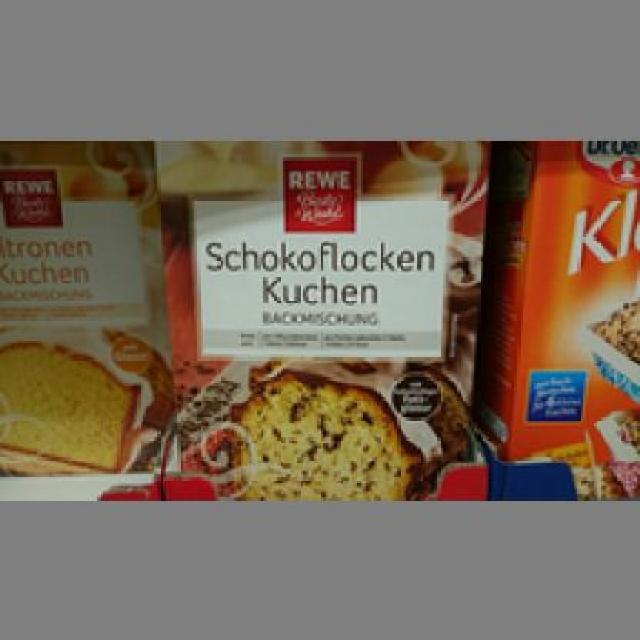Cake: (148, 132, 488, 498), (0, 144, 152, 481), (502, 137, 638, 466)
